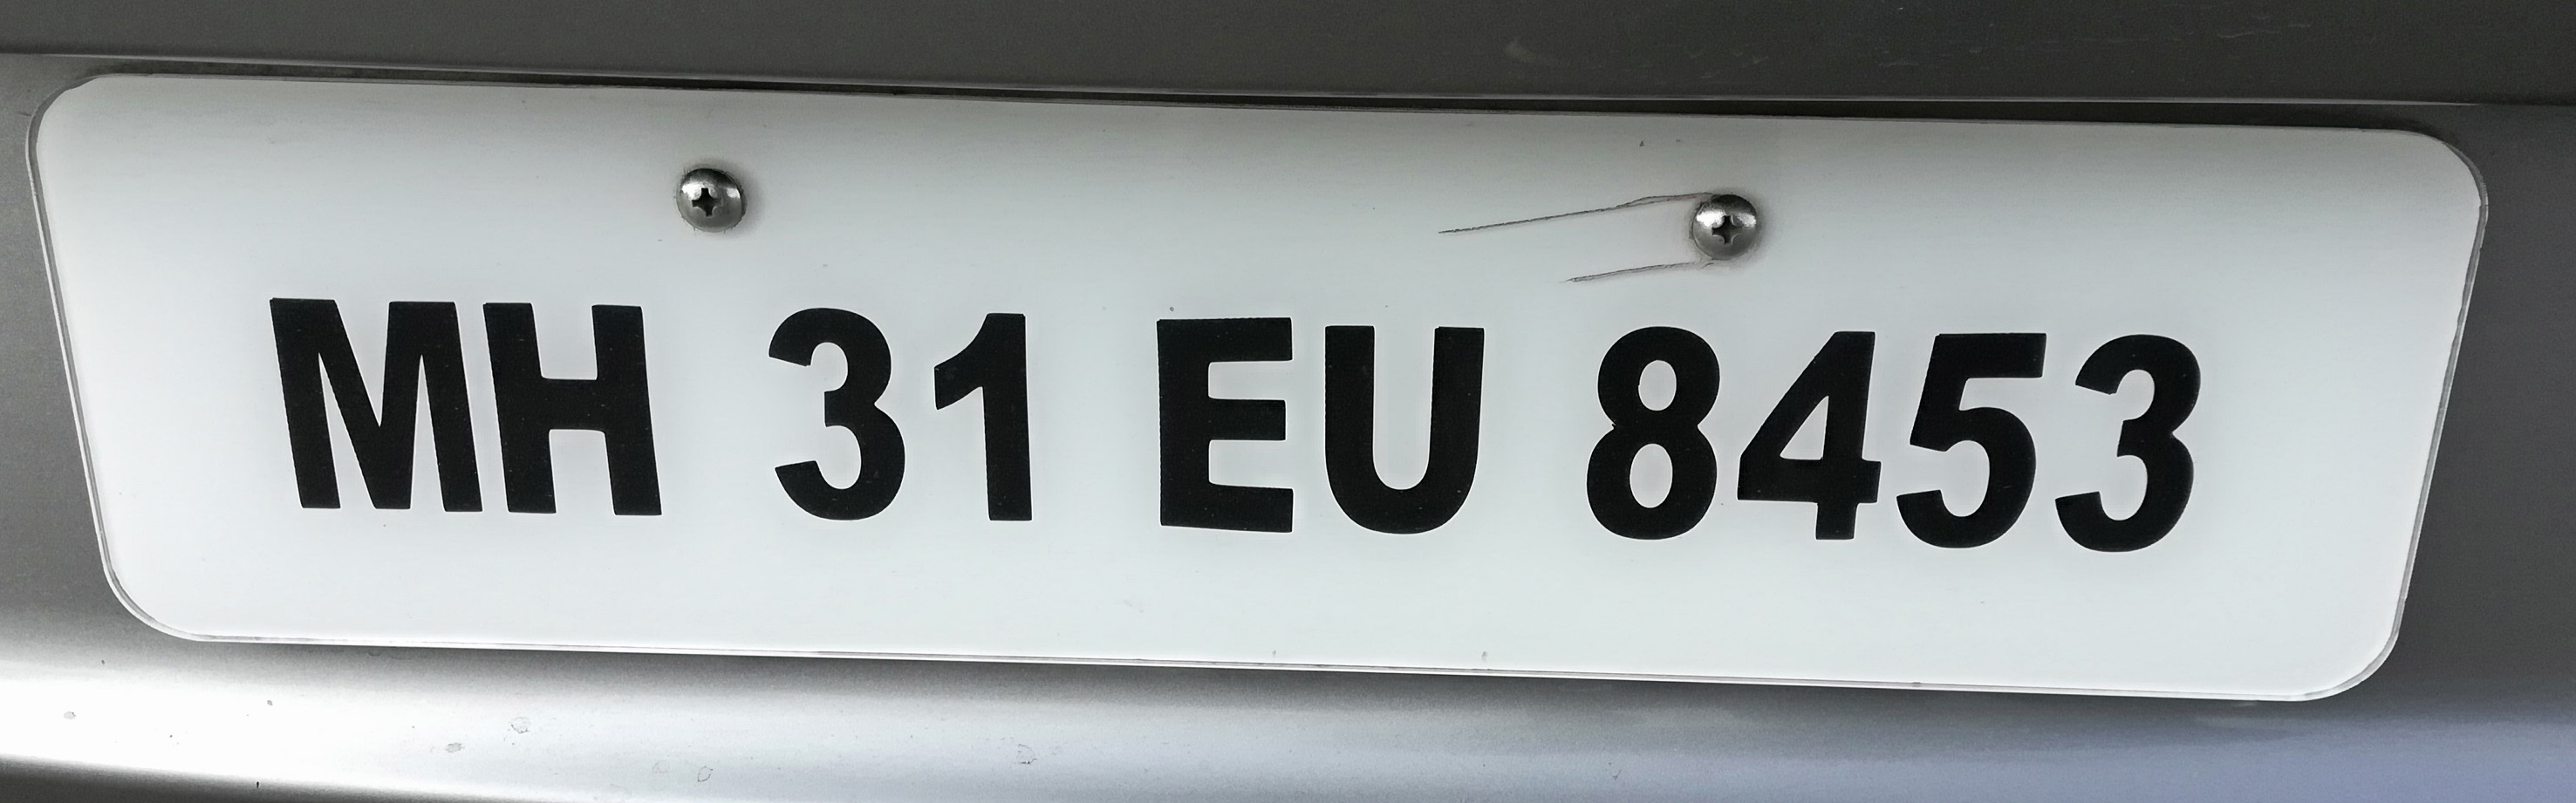numberplate: (26, 49, 2479, 706)
